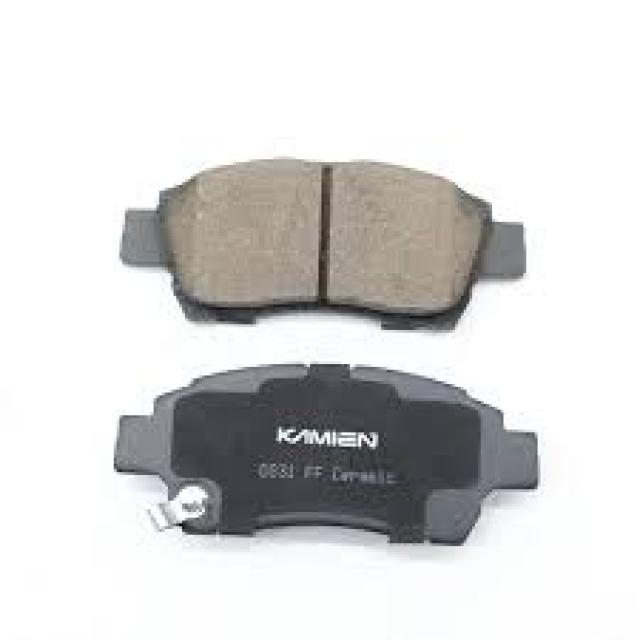brake_pad: (107, 355, 559, 568), (118, 139, 534, 345)
